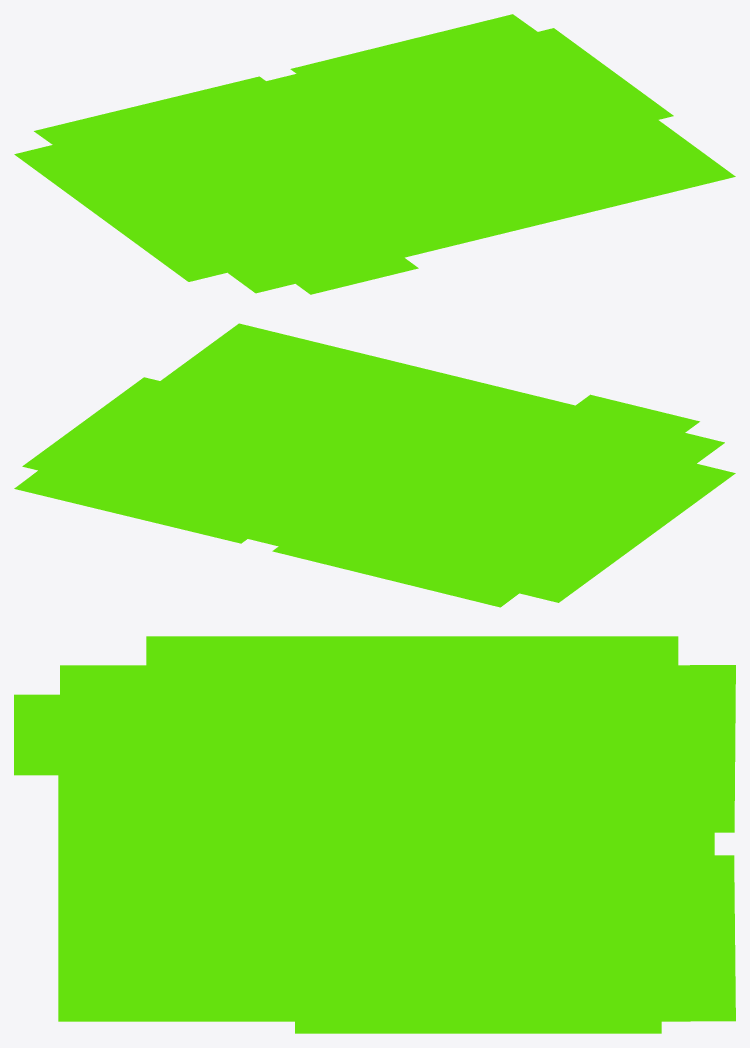
The model's file is libreria-nav.glb.
3 views of the same model, one above another, from view 1: azimuth 30°, elevation 25°; view 2: azimuth 150°, elevation 25°; view 3: azimuth 270°, elevation 25° (orthographic). The views are drawn at different scales.
Visible parts, largest first — view 1: nav_map; view 2: nav_map; view 3: nav_map.
Part boxes in pixels (x1=…): nav_map: x1=14, y1=14, x2=735, y2=294; nav_map: x1=14, y1=323, x2=735, y2=607; nav_map: x1=14, y1=636, x2=735, y2=1033.
Bounding box in the file's own units: 9.43 × 3.72e-08 × 7.25.
